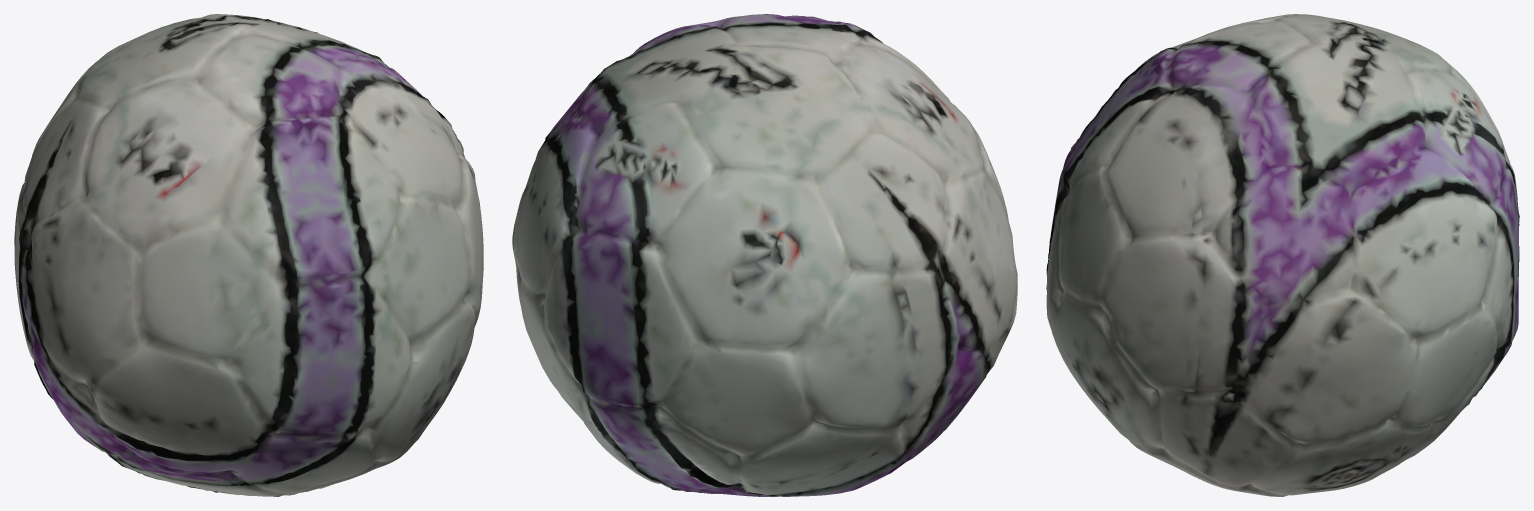
3 views of the same model, side by side, from view 1: azimuth 30°, elevation 25°; view 2: azimuth 150°, elevation 25°; view 3: azimuth 270°, elevation 25° (orthographic). The views are drawn at different scales.
Bounding box in the file's own units: 0.1281 × 0.1278 × 0.1256.
